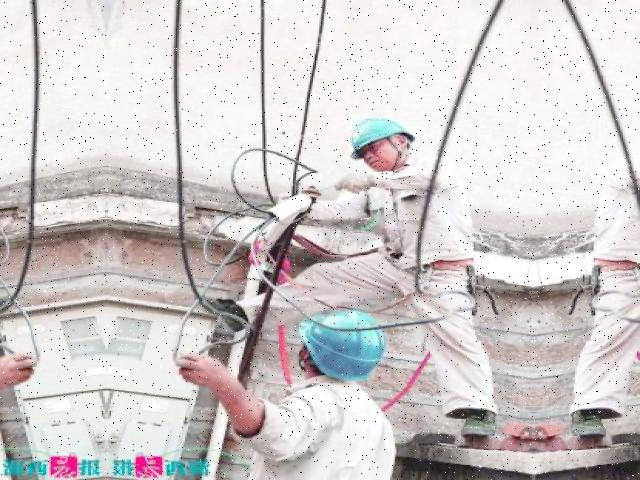Helmet: (299, 302, 391, 390), (345, 111, 422, 164)
